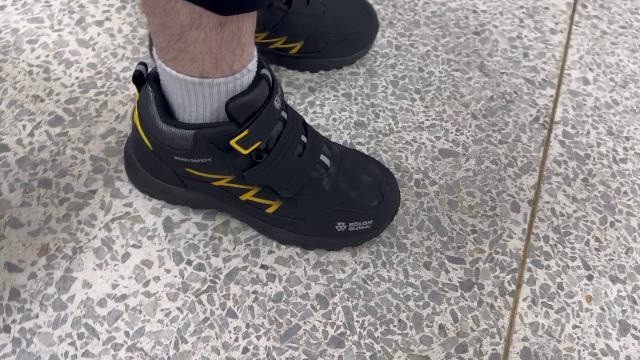shoe_worn: (114, 62, 402, 250), (219, 0, 384, 72)
